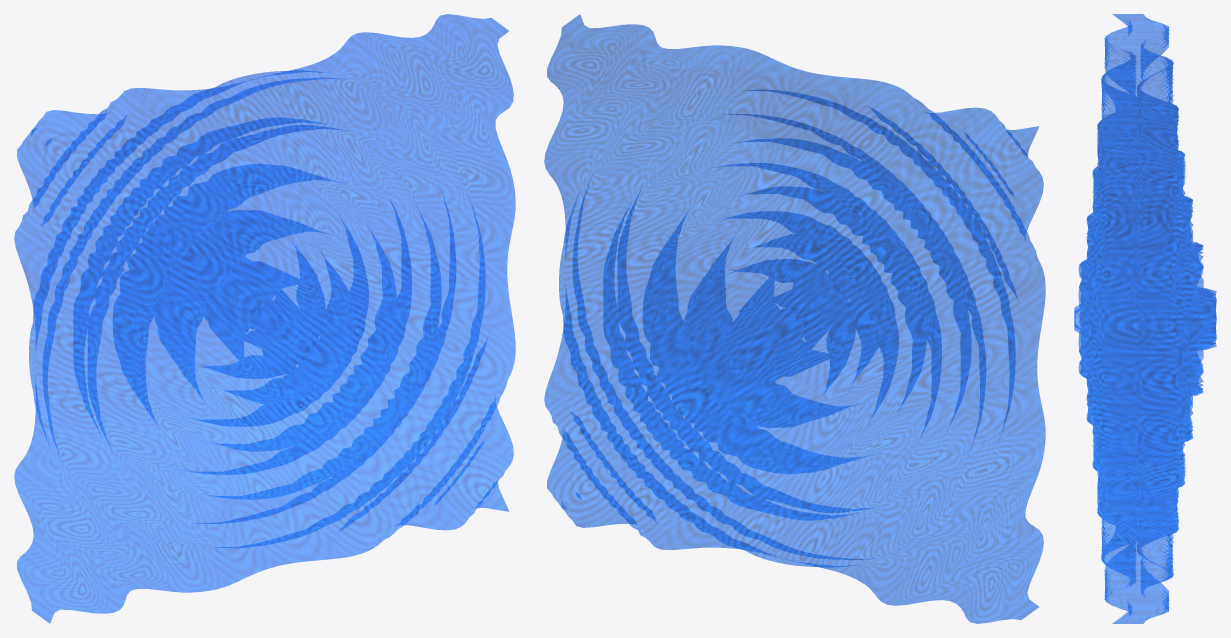
File: softbody_slab.glb
The picture shows the model from 3 angles, left to right: view 1: azimuth 30°, elevation 25°; view 2: azimuth 150°, elevation 25°; view 3: azimuth 270°, elevation 25°; orthographic projection. The views are drawn at different scales.
Parts seen in each view (by area): view 1: SlabNode; view 2: SlabNode; view 3: SlabNode.
Part boxes in pixels (bbox=[...]): SlabNode: bbox=[14, 14, 515, 623]; SlabNode: bbox=[544, 14, 1045, 623]; SlabNode: bbox=[1074, 14, 1216, 623].
Bounding box in the file's own units: 200 × 200 × 62.05.
